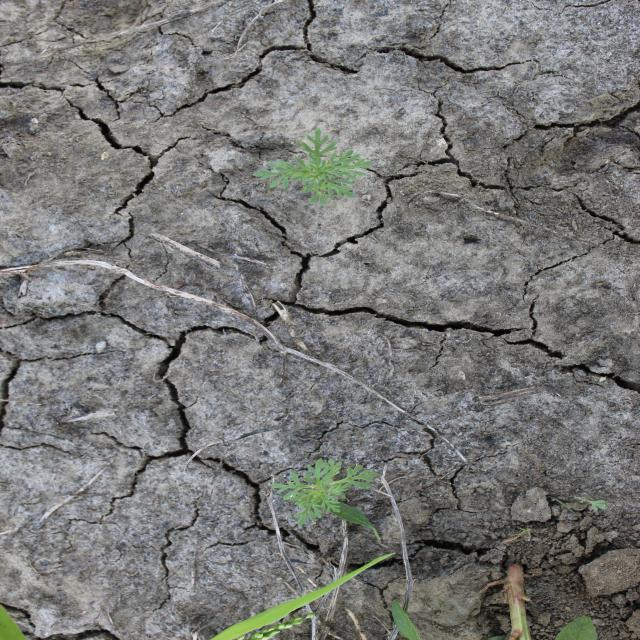Ragweed: (251, 126, 376, 209), (269, 456, 383, 527)
